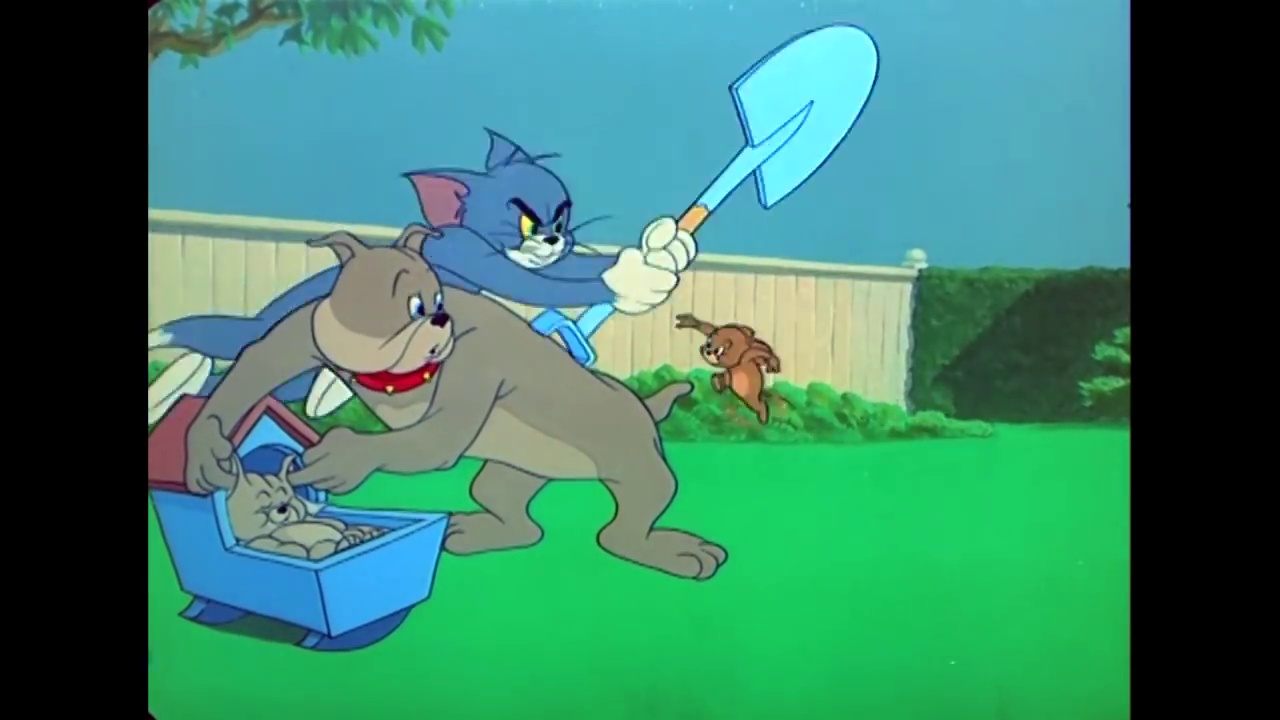spike: (303, 225, 466, 403)
tom: (399, 125, 593, 283)
